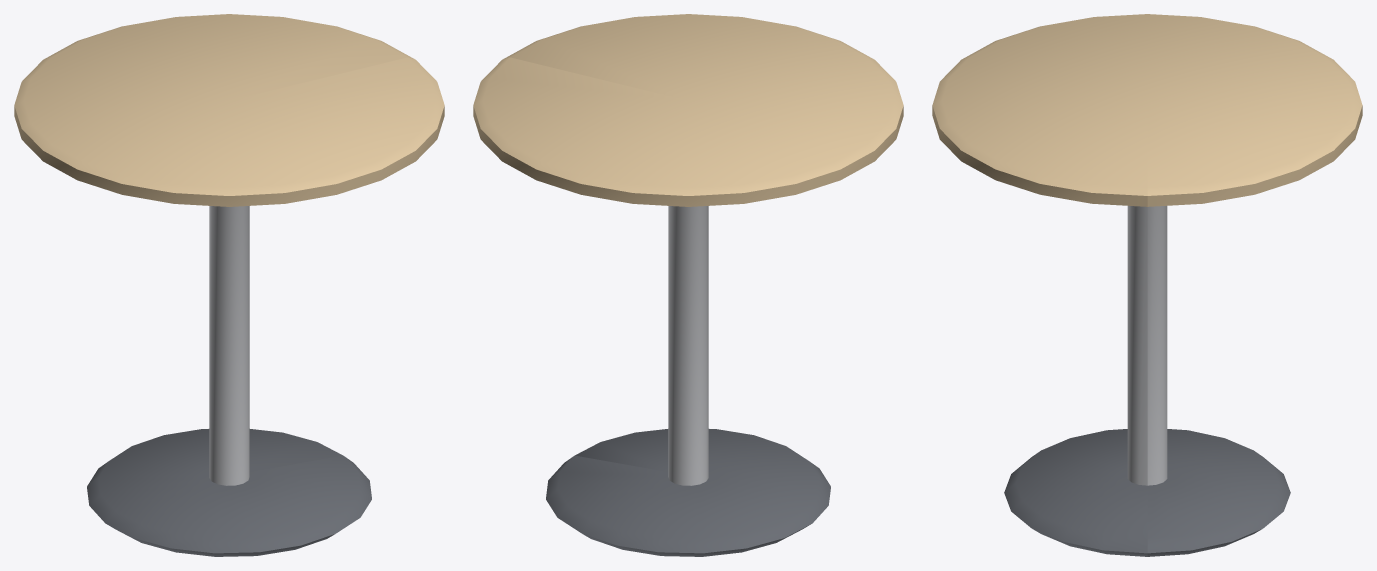
The model's file is university-lecture-hall-and-campus-cafe-table-round-6a97158e__34765.glb.
3 views of the same model, side by side, from view 1: azimuth 30°, elevation 25°; view 2: azimuth 150°, elevation 25°; view 3: azimuth 270°, elevation 25° (orthographic).
Visible parts, largest first — view 1: cafe-table-round; view 2: cafe-table-round; view 3: cafe-table-round.
Boxes of the visible parts, x1,y1,x2,y2 form: cafe-table-round: [14, 14, 444, 556]; cafe-table-round: [473, 14, 903, 556]; cafe-table-round: [932, 14, 1362, 556].
Size of the model in its own units: 0.72 by 0.74 by 0.72.
